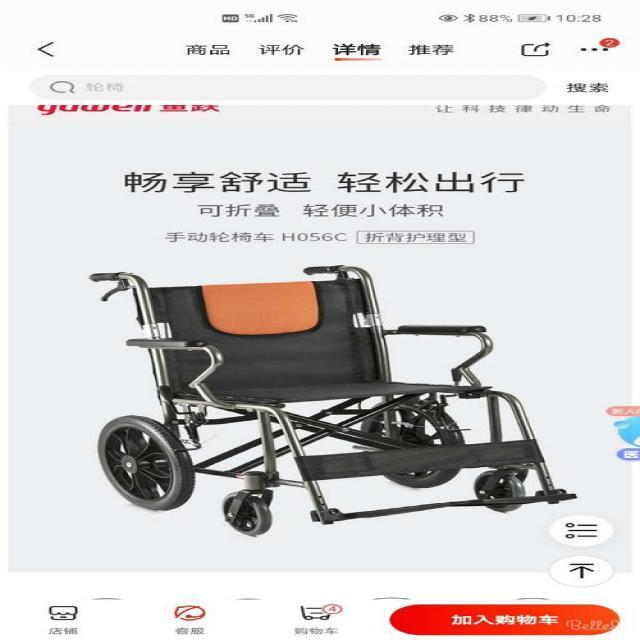wheelchairs: (85, 263, 579, 538)
